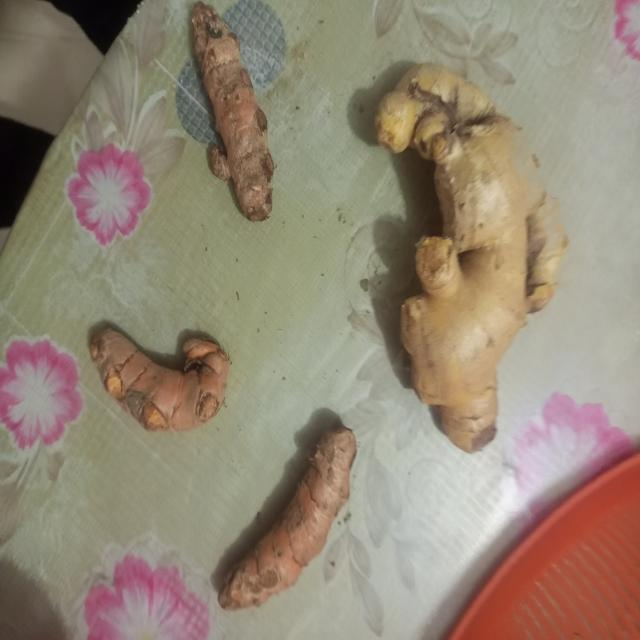ginger: (390, 67, 558, 440), (224, 432, 358, 596), (194, 1, 272, 219), (95, 326, 230, 422)
